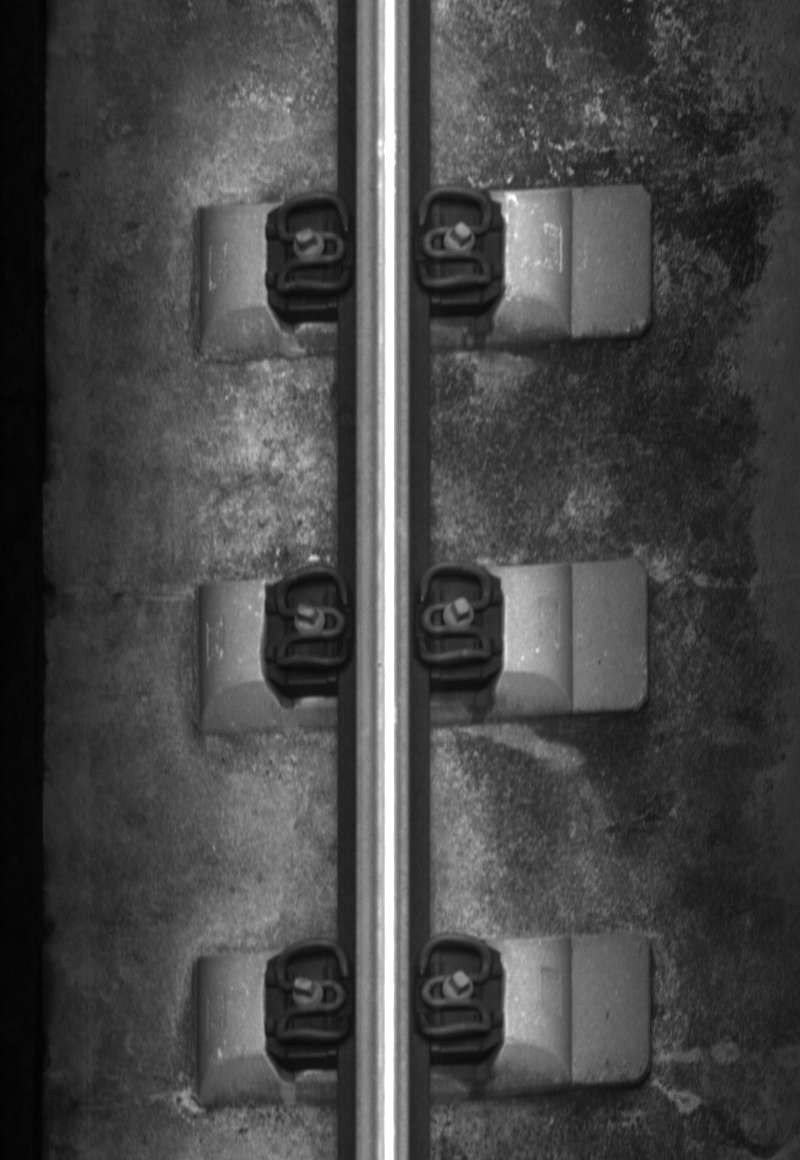l_faster: (268, 561, 355, 680), (269, 189, 354, 304), (270, 937, 352, 1046)
r_faster: (411, 180, 497, 300), (413, 932, 497, 1045), (414, 560, 496, 670)
